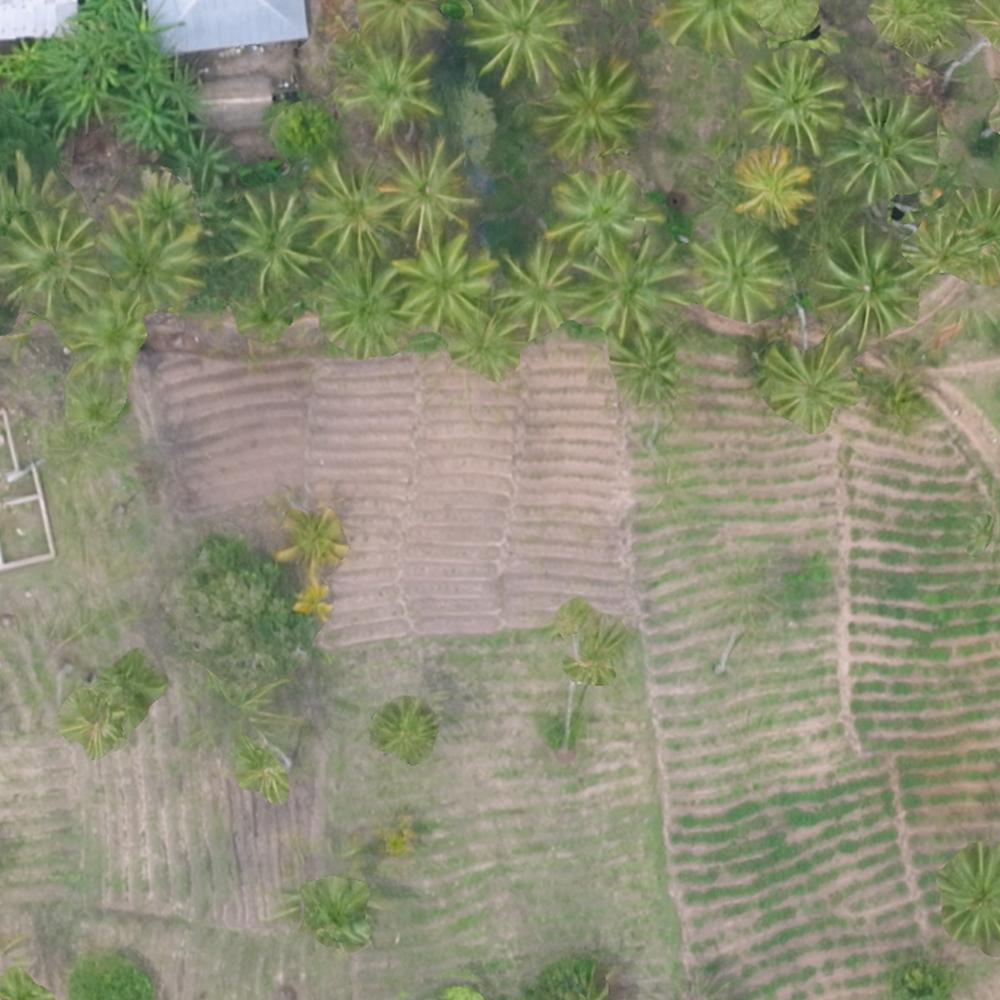Palm: (814, 231, 919, 343), (835, 100, 936, 205), (462, 1, 576, 91), (575, 241, 685, 333), (94, 213, 198, 310), (396, 234, 496, 330), (379, 144, 480, 238), (743, 49, 838, 148), (1, 210, 97, 307), (308, 155, 402, 251), (315, 258, 410, 352), (222, 191, 315, 286), (543, 58, 637, 150), (342, 43, 435, 135), (549, 169, 643, 256), (494, 244, 583, 332), (762, 339, 857, 421), (694, 227, 784, 313), (733, 147, 812, 226), (66, 292, 143, 365), (449, 312, 528, 378), (605, 328, 680, 397), (901, 212, 980, 277), (278, 508, 348, 569)
